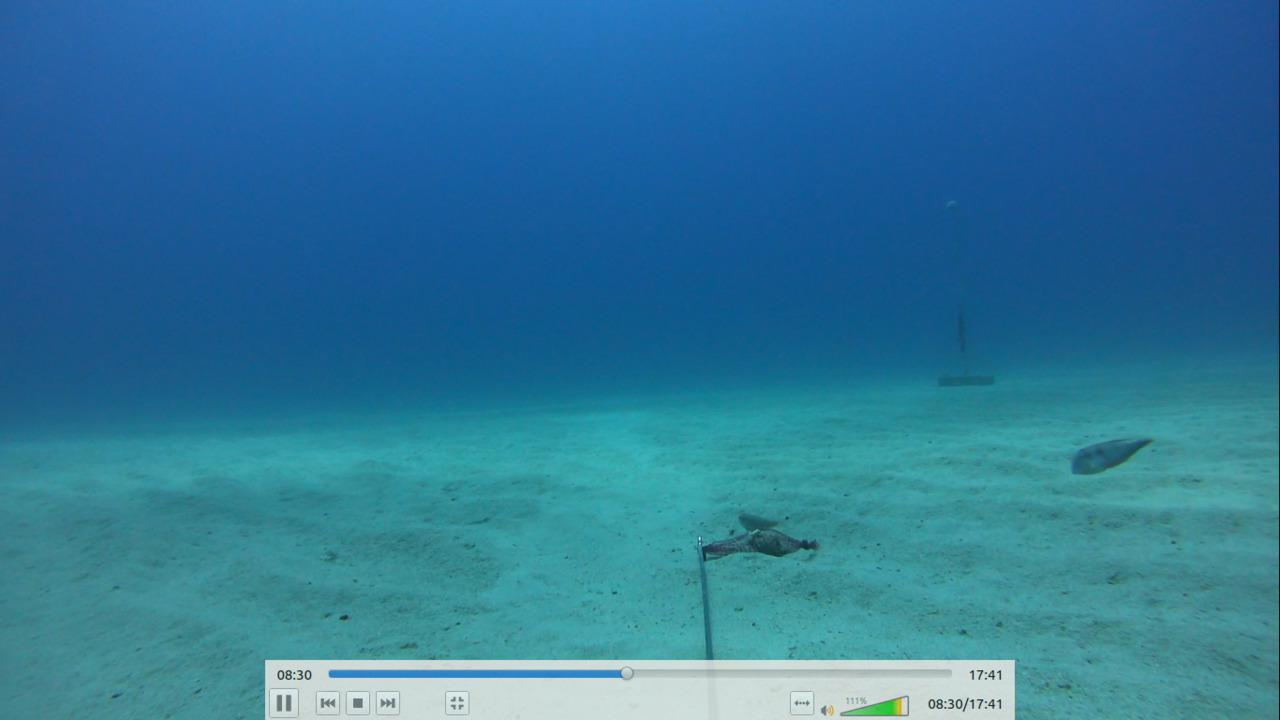raor: (1064, 425, 1162, 482), (725, 501, 791, 533)
